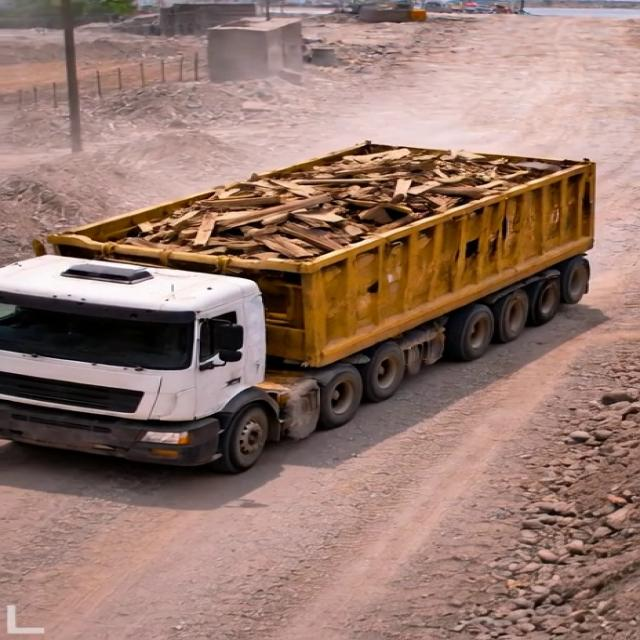trailer: (48, 141, 596, 266)
truck: (0, 110, 609, 470)
